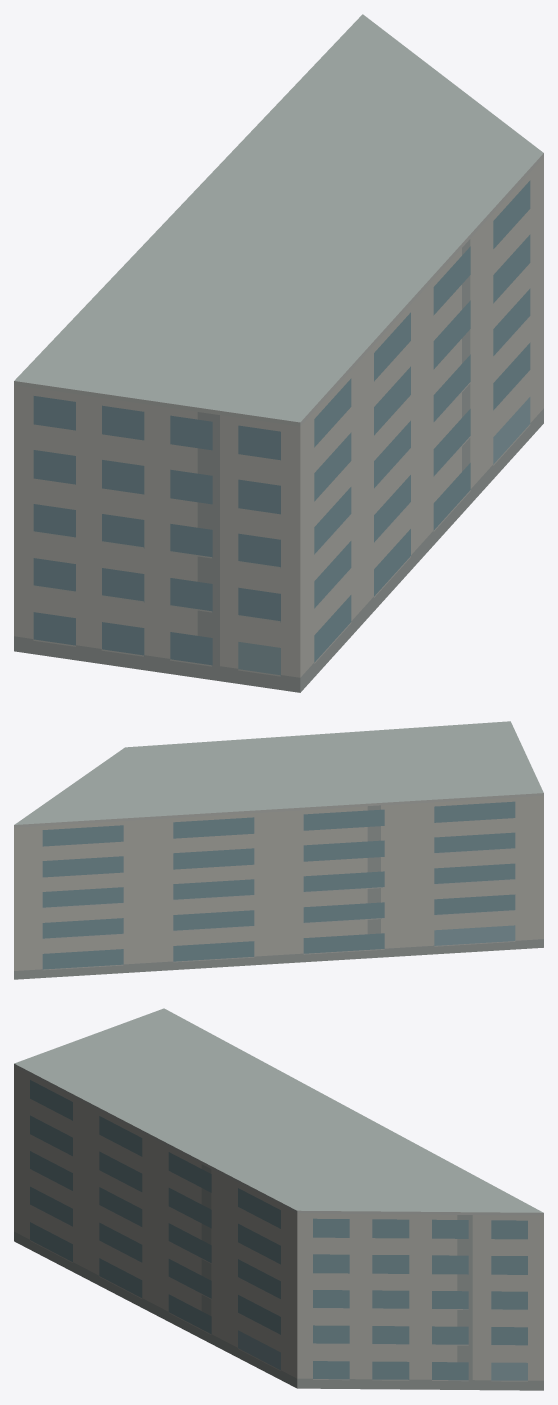
The model's file is residential-f4ae6984-eac7-4b5f-a033-8ca1bd8a56b4.glb.
The picture shows the model from 3 angles, top to bottom: view 1: azimuth 30°, elevation 25°; view 2: azimuth 150°, elevation 25°; view 3: azimuth 270°, elevation 25°; orthographic projection. The views are drawn at different scales.
Parts seen in each view (by area): view 1: residential-f4ae6984-eac7-4b5f-a033-8ca1bd8a56b4.tmp; view 2: residential-f4ae6984-eac7-4b5f-a033-8ca1bd8a56b4.tmp; view 3: residential-f4ae6984-eac7-4b5f-a033-8ca1bd8a56b4.tmp.
Part boxes in pixels (x1,y1,x2,y2): residential-f4ae6984-eac7-4b5f-a033-8ca1bd8a56b4.tmp: (14, 14, 543, 692); residential-f4ae6984-eac7-4b5f-a033-8ca1bd8a56b4.tmp: (14, 721, 543, 979); residential-f4ae6984-eac7-4b5f-a033-8ca1bd8a56b4.tmp: (14, 1008, 543, 1390).
Bounding box in the file's own units: 37.63 × 15.25 × 41.2.
